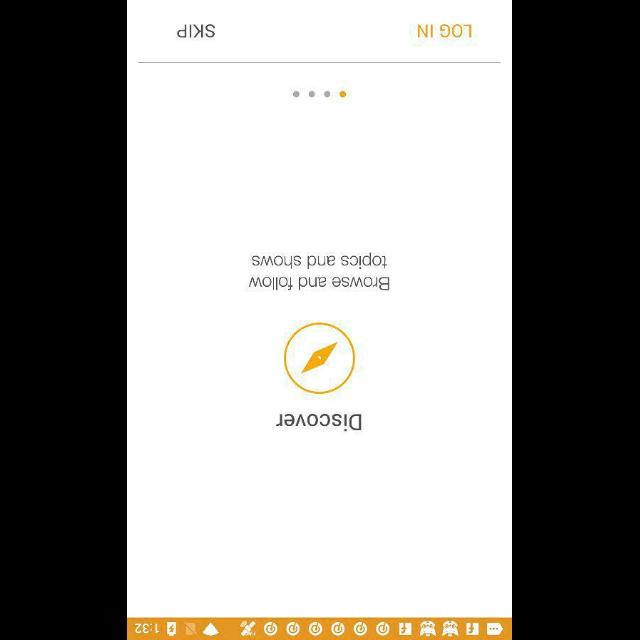icon: (284, 322, 356, 394)
pageindicator: (293, 90, 347, 98)
text: (250, 252, 390, 290), (276, 413, 362, 431), (418, 24, 472, 38), (177, 24, 215, 38)
uppertaskbar: (128, 617, 512, 639)
